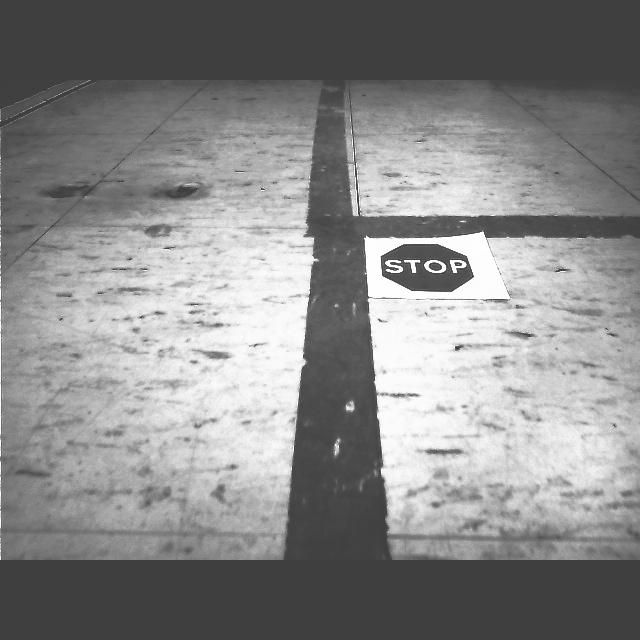STOP: (381, 244, 473, 291)
